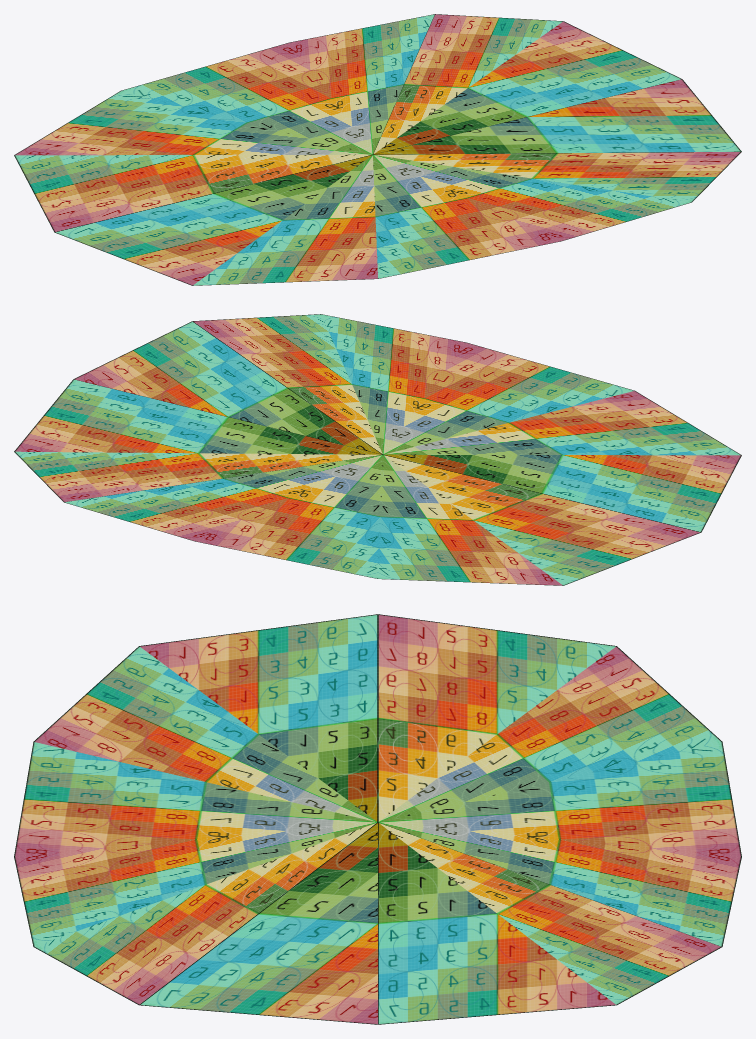
Rendered from SM_Lava_B.fbx.
3 renders of one model, top to bottom at view 1: azimuth 30°, elevation 25°; view 2: azimuth 150°, elevation 25°; view 3: azimuth 270°, elevation 25°, orthographic. The views are drawn at different scales.
Visible parts, largest first — view 1: SM_Lava_B; view 2: SM_Lava_B; view 3: SM_Lava_B.
Boxes of the visible parts, x1,y1,x2,y2 form: SM_Lava_B: [14, 14, 741, 285]; SM_Lava_B: [14, 314, 741, 585]; SM_Lava_B: [14, 614, 741, 1024].
Bounding box in the file's own units: 134 × 1.91e-06 × 101.
1 material, 1 textured.
